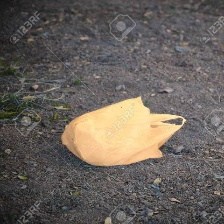plastic_bag: (57, 93, 188, 171)
